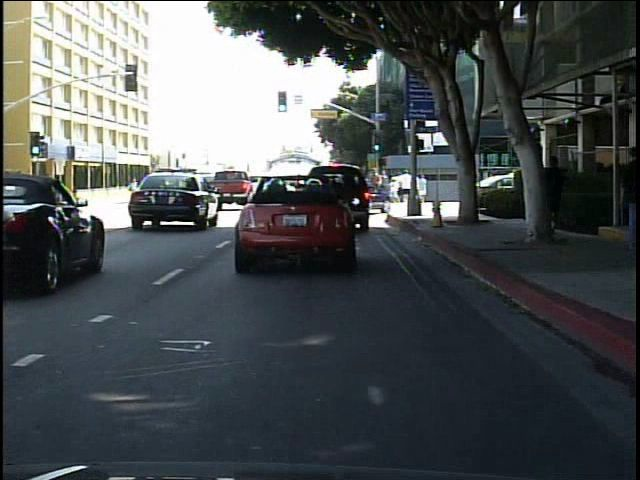person: (545, 146, 570, 237), (125, 175, 143, 202), (630, 141, 632, 260)
